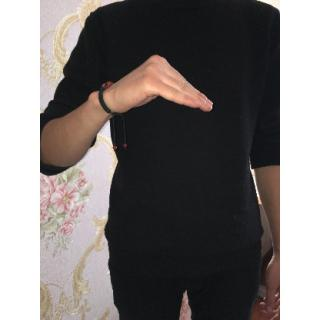HAA: (102, 52, 218, 120)
